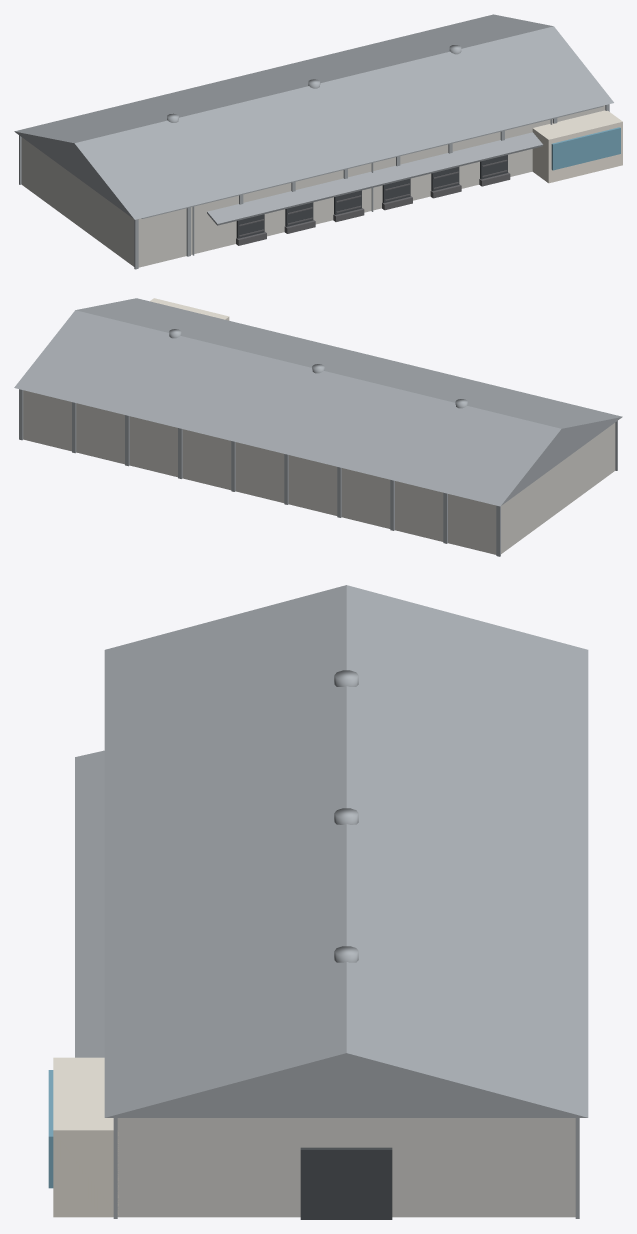
The model's file is warehouse_large.glb.
3 renders of one model, top to bottom at view 1: azimuth 30°, elevation 25°; view 2: azimuth 150°, elevation 25°; view 3: azimuth 270°, elevation 25°, orthographic. The views are drawn at different scales.
Visible parts, largest first — view 1: Merged_PropsMetal, wh_walls, wh_office, Merged_WindowFrame, Merged_RoofDark, wh_office_glass; view 2: Merged_PropsMetal, wh_walls, wh_office; view 3: Merged_PropsMetal, wh_walls, wh_office, Merged_WindowFrame.
Boxes of the visible parts, x1,y1,x2,y2 form: Merged_PropsMetal: [14, 14, 613, 269]; wh_walls: [21, 105, 605, 267]; wh_office: [532, 110, 622, 183]; Merged_WindowFrame: [236, 155, 507, 238]; Merged_RoofDark: [236, 160, 510, 245]; wh_office_glass: [551, 127, 620, 170]; Merged_PropsMetal: [14, 298, 622, 556]; wh_walls: [23, 390, 615, 554]; wh_office: [150, 298, 229, 320]; Merged_PropsMetal: [75, 585, 588, 1218]; wh_walls: [117, 1118, 575, 1217]; wh_office: [53, 1057, 118, 1217]; Merged_WindowFrame: [300, 1147, 392, 1219].
Size of the model in its own units: 77.4 by 13.45 by 37.72.
